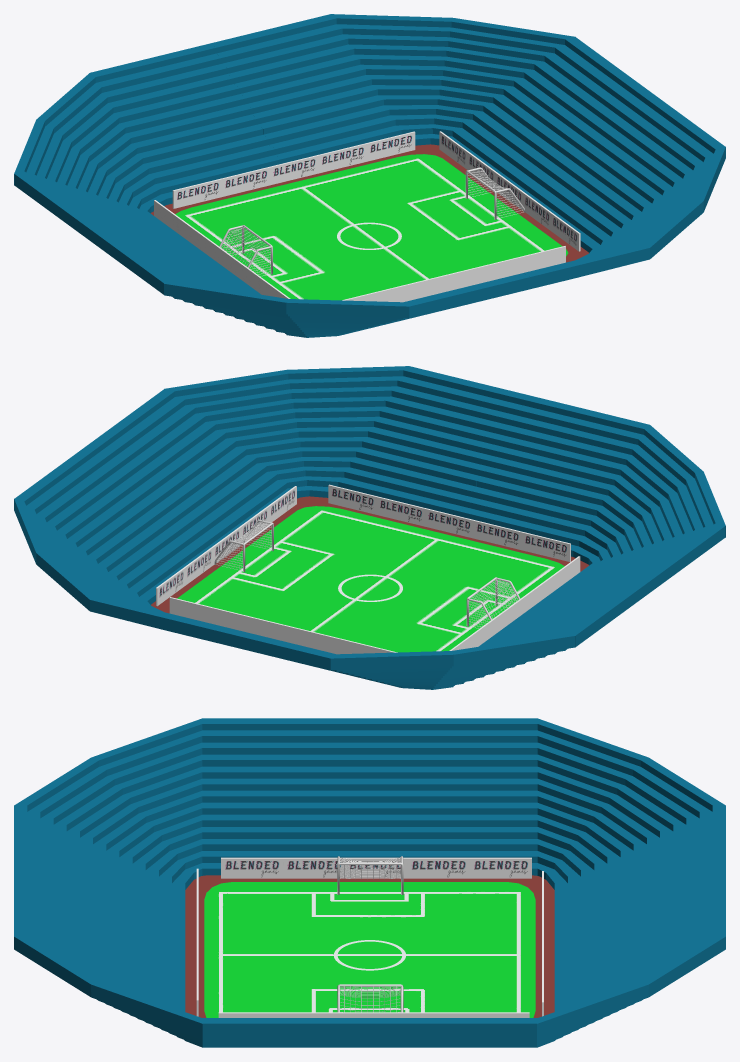
Rendered from saha_full.fbx.
The picture shows the model from 3 angles, top to bottom: view 1: azimuth 30°, elevation 25°; view 2: azimuth 150°, elevation 25°; view 3: azimuth 270°, elevation 25°; orthographic projection. The views are drawn at different scales.
Parts seen in each view (by area): view 1: Cube, Cube.001, Cube.002, file, file.001; view 2: Cube, Cube.001, Cube.002, file, file.001; view 3: Cube, Cube.001, Cube.002, file.001, file.
Part boxes in pixels (x1,y1,x2,y2): Cube: (14,14,725,337); Cube.001: (151,144,588,300); Cube.002: (154,131,580,302); file: (221,226,270,276); file.001: (468,169,523,218); Cube: (14,366,725,689); Cube.001: (151,496,588,652); Cube.002: (156,484,580,654); file: (469,579,518,628); file.001: (216,521,271,571); Cube: (14,718,725,1047); Cube.001: (185,875,554,1017); Cube.002: (196,857,543,1017); file.001: (339,986,400,1012); file: (340,857,400,878).
Bounding box in the file's own units: 33810 × 4679 × 33274.
